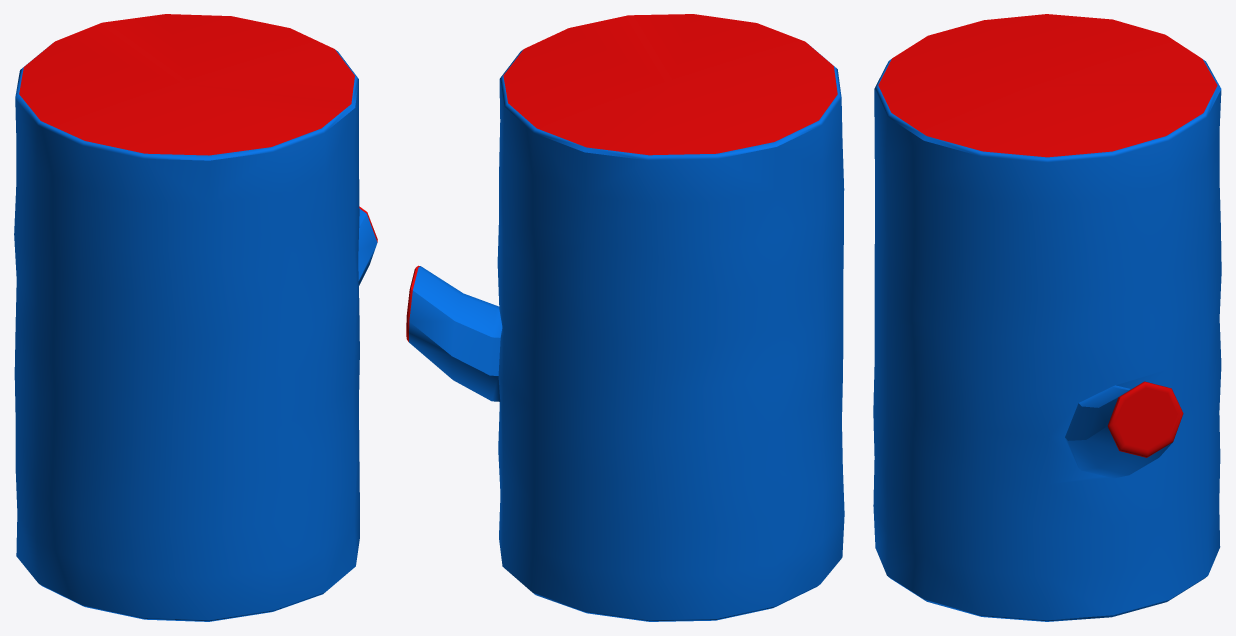
File: log_01.fbx
3 renders of one model, left to right at view 1: azimuth 30°, elevation 25°; view 2: azimuth 150°, elevation 25°; view 3: azimuth 270°, elevation 25°, orthographic.
Parts seen in each view (by area): view 1: generated_log_01; view 2: generated_log_01; view 3: generated_log_01.
Boxes of the visible parts, x1,y1,x2,y2 form: generated_log_01: [14, 14, 377, 621]; generated_log_01: [406, 14, 844, 621]; generated_log_01: [873, 14, 1221, 621].
Bounding box in the file's own units: 2.28 × 2.72 × 1.85.
